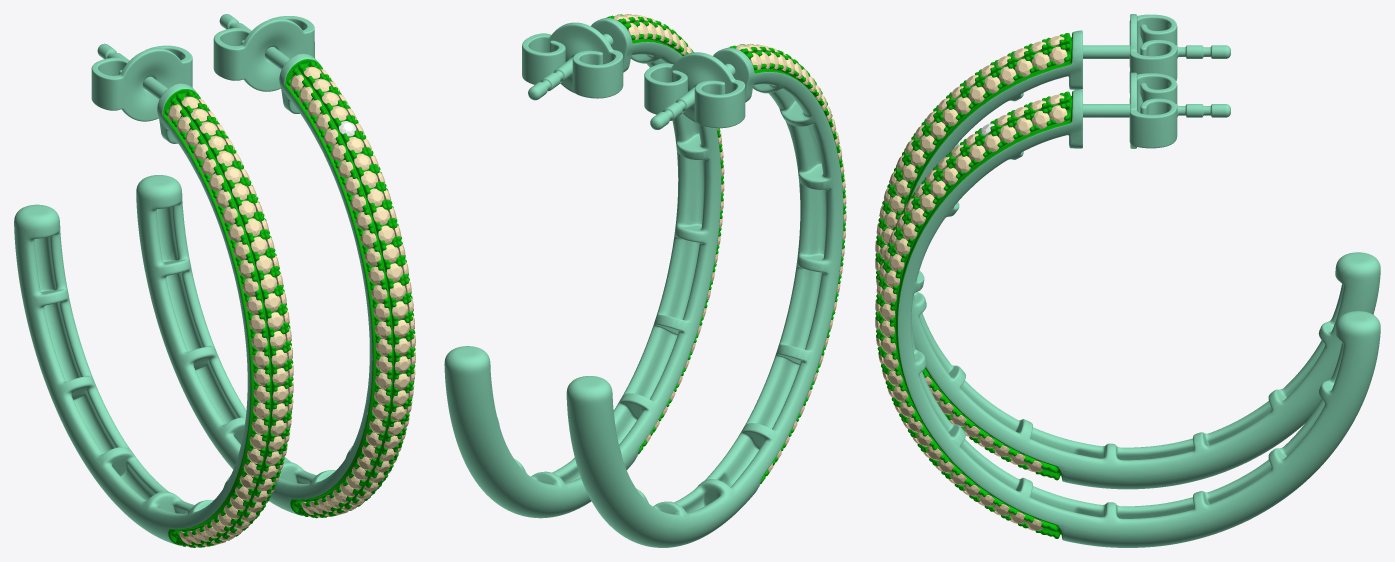
File: TES-ER-R-43131-RR.glb
The picture shows the model from 3 angles, left to right: view 1: azimuth 30°, elevation 25°; view 2: azimuth 150°, elevation 25°; view 3: azimuth 270°, elevation 25°; orthographic projection.
Visible parts, largest first — view 1: Metal2, Metal1; view 2: Metal2, Metal1; view 3: Metal2, Metal1.
Boxes of the visible parts, bbox=[...] form: Metal2: bbox=[14, 14, 372, 545]; Metal1: bbox=[163, 59, 415, 547]; Metal2: bbox=[444, 18, 843, 547]; Metal1: bbox=[606, 14, 846, 486]; Metal2: bbox=[898, 14, 1380, 547]; Metal1: bbox=[875, 32, 1072, 539].
Bounding box in the file's own units: 17.6 × 37.32 × 36.42.
